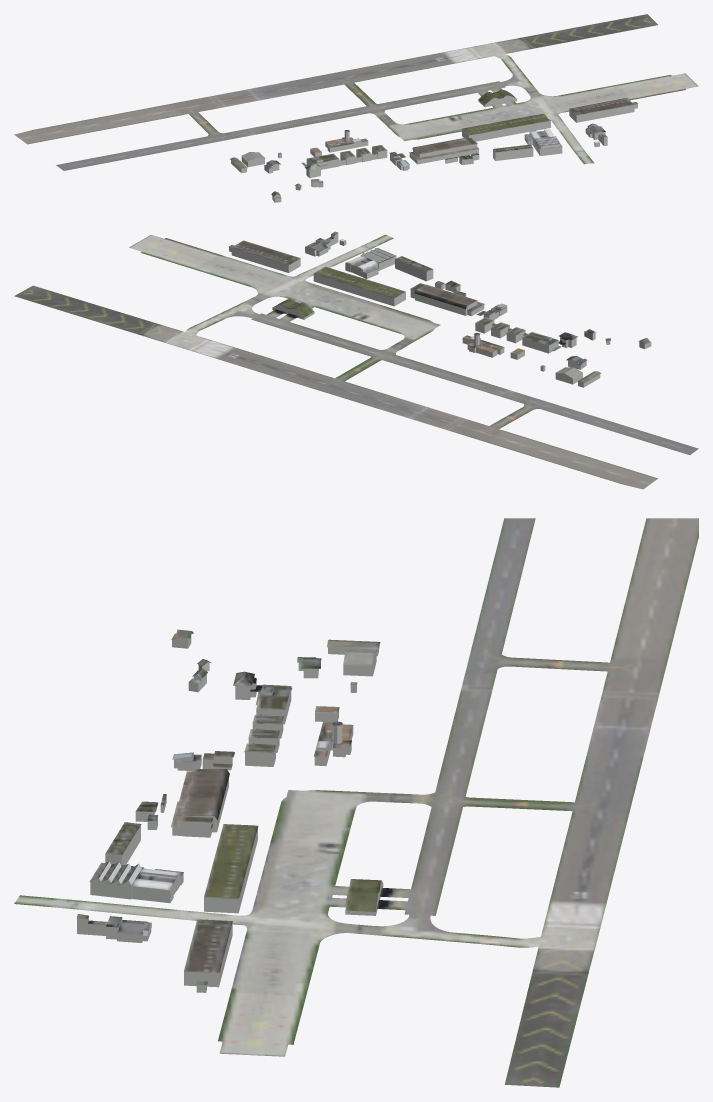
File: LSMM_1_-1.glb
3 renders of one model, top to bottom at view 1: azimuth 30°, elevation 25°; view 2: azimuth 150°, elevation 25°; view 3: azimuth 270°, elevation 25°, orthographic. The views are drawn at different scales.
Visible parts, largest first — view 1: pavement_LSMM_pavement_5304_2353, pavement_LSMM_pavement_5303_2353, building_1a9c10d97b9d0329, building_8b00bffc0d89947c, building_e452cf2c307755eb, building_0aafb399e275d641, building_16a99c1a8af1b98c, building_947f630da6022c26, building_b6569b24f36a919a, building_48a58aca0668487a, building_233fd3da15395585, building_b771af0229b43f0a; view 2: pavement_LSMM_pavement_5304_2353, pavement_LSMM_pavement_5303_2353, building_1a9c10d97b9d0329, building_8b00bffc0d89947c, building_0aafb399e275d641, building_e452cf2c307755eb, building_16a99c1a8af1b98c, building_947f630da6022c26, building_b6569b24f36a919a, building_48a58aca0668487a, building_233fd3da15395585, building_b771af0229b43f0a; view 3: pavement_LSMM_pavement_5304_2353, pavement_LSMM_pavement_5303_2353, building_1a9c10d97b9d0329, building_16a99c1a8af1b98c, building_947f630da6022c26, building_0aafb399e275d641, building_b6569b24f36a919a, building_8b00bffc0d89947c, building_233fd3da15395585, building_e452cf2c307755eb, building_35cd82e705382241, building_f01c47cb74196008.
Part boxes in pixels (x1,y1,x2,y2): pavement_LSMM_pavement_5304_2353: [347, 14, 698, 164]; pavement_LSMM_pavement_5303_2353: [14, 70, 436, 170]; building_1a9c10d97b9d0329: [325, 130, 479, 166]; building_8b00bffc0d89947c: [264, 147, 387, 202]; building_e452cf2c307755eb: [325, 132, 478, 170]; building_0aafb399e275d641: [493, 125, 607, 160]; building_16a99c1a8af1b98c: [493, 123, 606, 152]; building_947f630da6022c26: [264, 145, 387, 199]; building_b6569b24f36a919a: [462, 113, 550, 135]; building_48a58aca0668487a: [462, 121, 550, 141]; building_233fd3da15395585: [569, 98, 637, 115]; building_b771af0229b43f0a: [569, 104, 637, 122]; pavement_LSMM_pavement_5304_2353: [14, 234, 410, 387]; pavement_LSMM_pavement_5303_2353: [311, 314, 698, 489]; building_1a9c10d97b9d0329: [410, 283, 507, 352]; building_8b00bffc0d89947c: [475, 321, 651, 369]; building_0aafb399e275d641: [305, 233, 433, 281]; building_e452cf2c307755eb: [410, 289, 507, 357]; building_16a99c1a8af1b98c: [305, 231, 432, 273]; building_947f630da6022c26: [475, 317, 651, 365]; building_b6569b24f36a919a: [314, 266, 405, 298]; building_48a58aca0668487a: [313, 274, 405, 306]; building_233fd3da15395585: [228, 240, 300, 265]; building_b771af0229b43f0a: [229, 247, 300, 272]; pavement_LSMM_pavement_5304_2353: [14, 818, 627, 1087]; pavement_LSMM_pavement_5303_2353: [277, 518, 698, 817]; building_1a9c10d97b9d0329: [171, 721, 353, 829]; building_16a99c1a8af1b98c: [77, 822, 183, 936]; building_947f630da6022c26: [171, 629, 339, 753]; building_0aafb399e275d641: [77, 825, 183, 942]; building_b6569b24f36a919a: [204, 824, 258, 899]; building_8b00bffc0d89947c: [172, 636, 338, 766]; building_233fd3da15395585: [184, 919, 232, 985]; building_e452cf2c307755eb: [172, 725, 353, 837]; building_35cd82e705382241: [345, 879, 382, 912]; building_f01c47cb74196008: [327, 639, 380, 685].
Size of the model in its own units: 949 by 22.62 by 481.
Materials: 3 (2 with a texture image).
